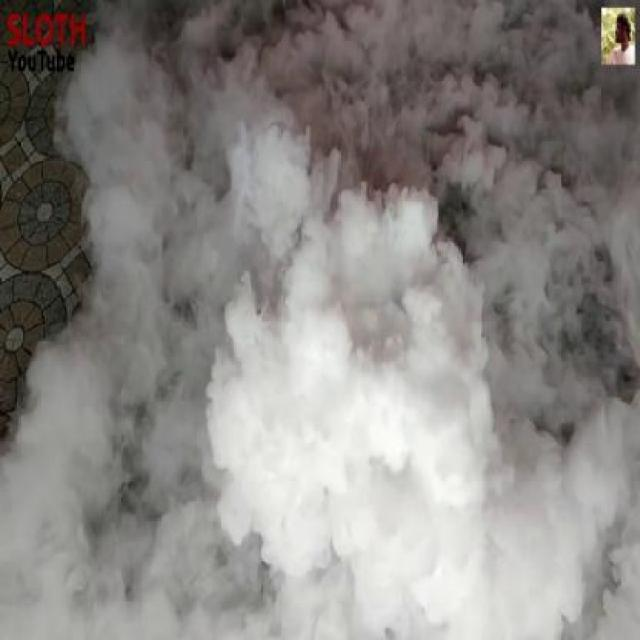smoke: (177, 108, 600, 604)
